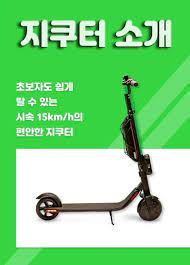kick_body: (62, 202, 123, 211)
kick_handler: (122, 75, 137, 93)
kick_neck: (121, 96, 152, 192)
kick_wheel: (36, 194, 59, 221), (138, 196, 161, 221)
